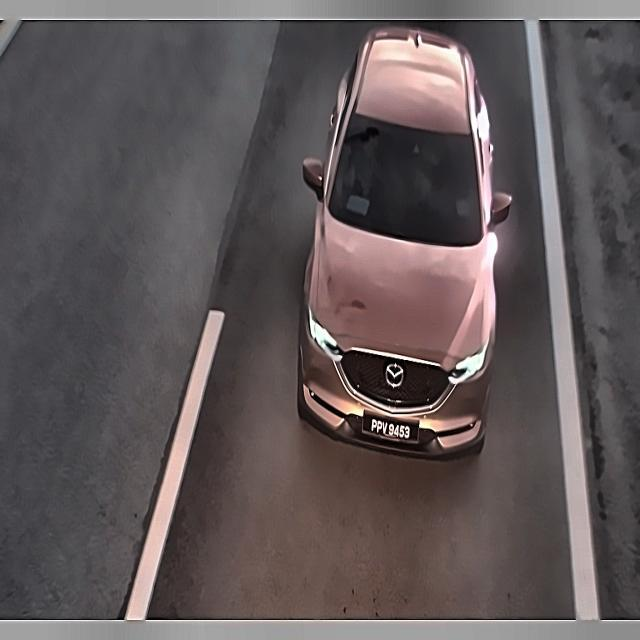car: (361, 407, 421, 452)
